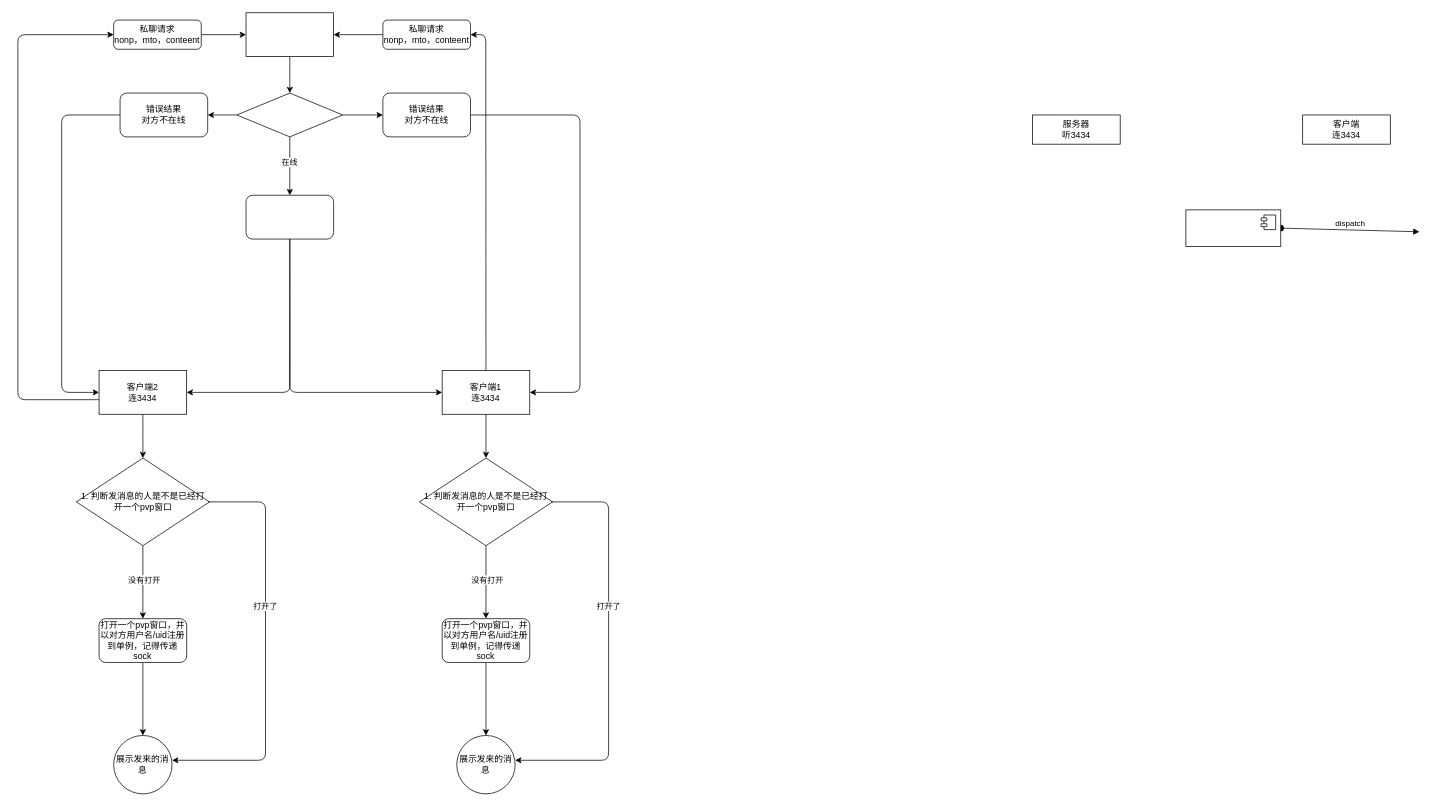
Image size: 1440x807. Some labels were removed from this diagram. Each missing label, with the box of its shape:
1. 判断对方在不在线: (236, 92, 343, 137)
1. 进行消息转发: (245, 195, 334, 239)
服务器听3434: (245, 12, 334, 57)
消息分发器: (1185, 209, 1281, 246)
